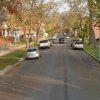Car: (20, 43, 43, 66)
